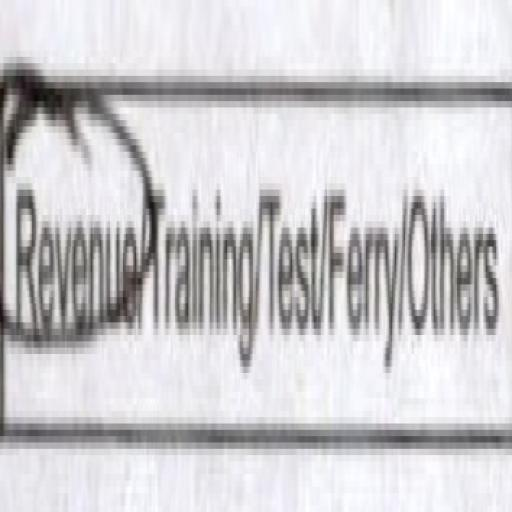check: (0, 0, 148, 468)
